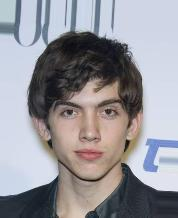face: (56, 101, 119, 164)
